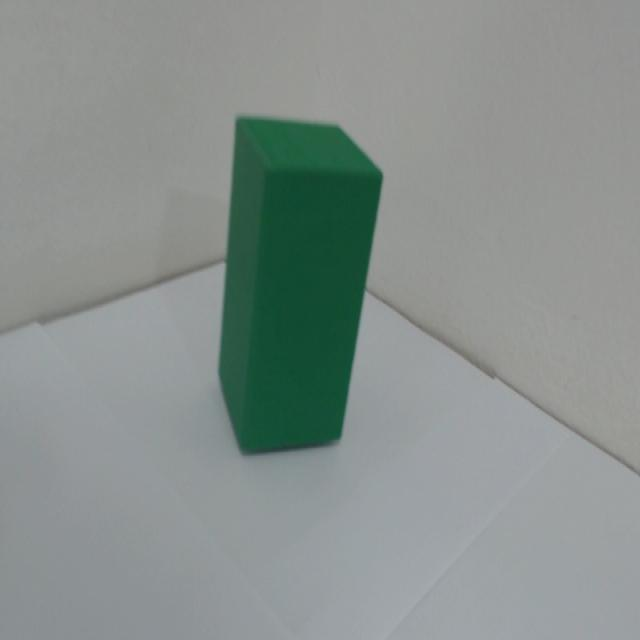cube: (197, 102, 414, 540)
